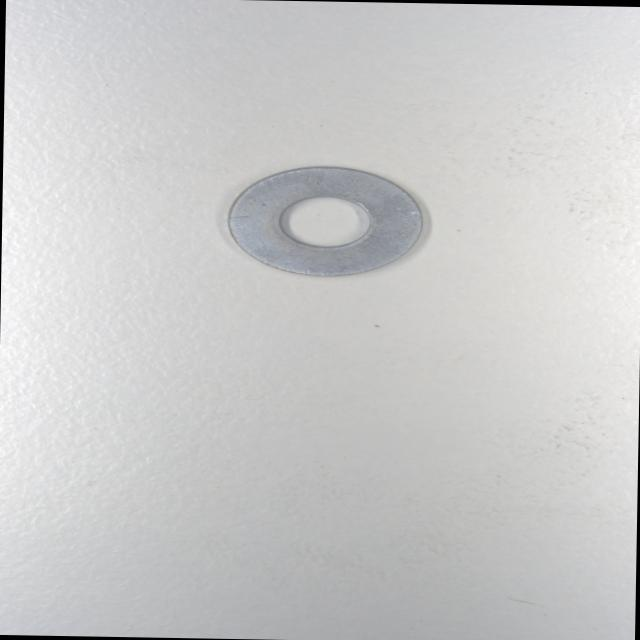washer: (222, 162, 428, 277)
